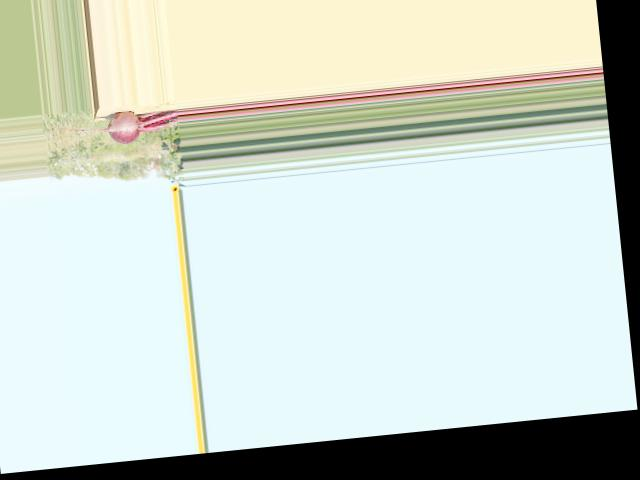beet: (47, 105, 181, 150)
